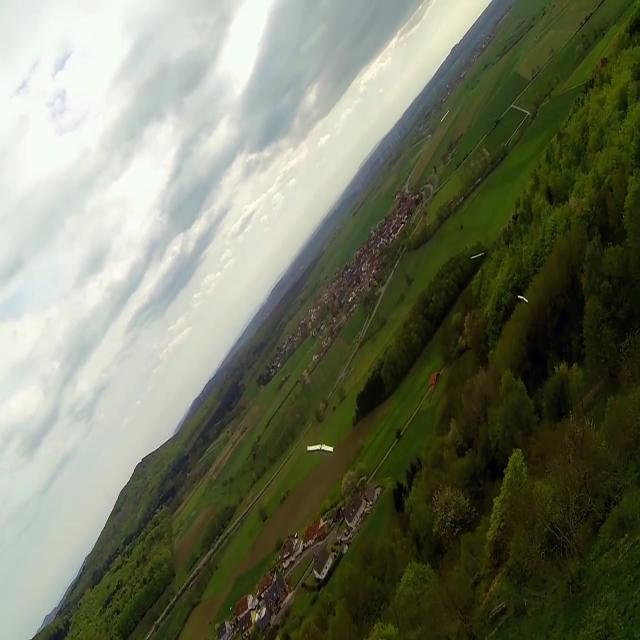iha: (307, 444, 334, 450), (470, 255, 484, 257), (514, 297, 519, 300)
